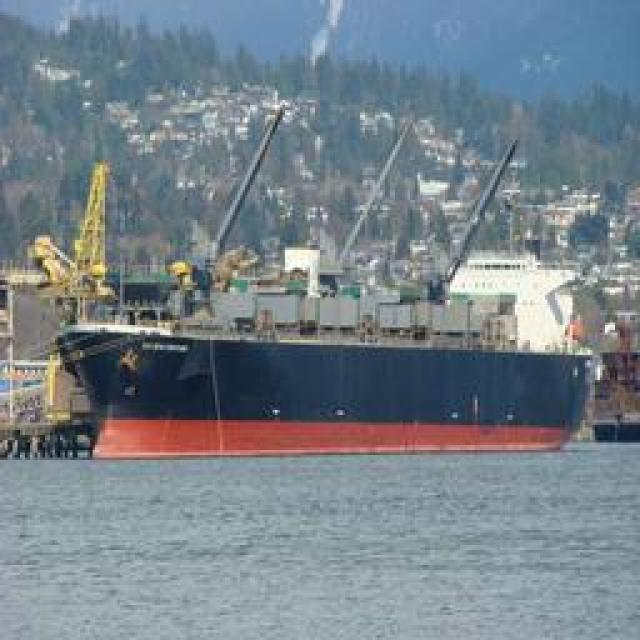ship2: (50, 92, 601, 460)
